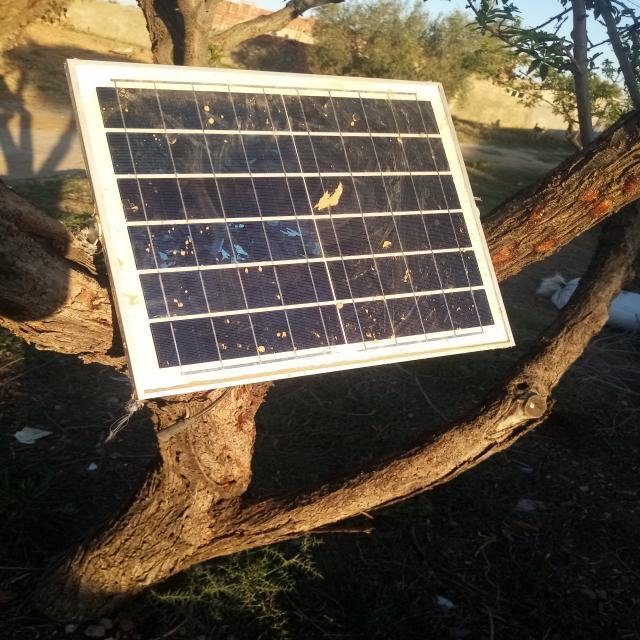faulty: (72, 63, 513, 398)
